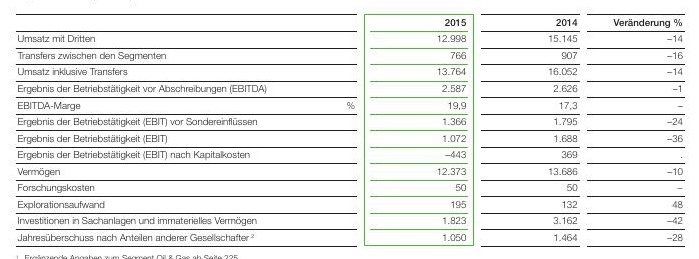table: (0, 0, 699, 259)
